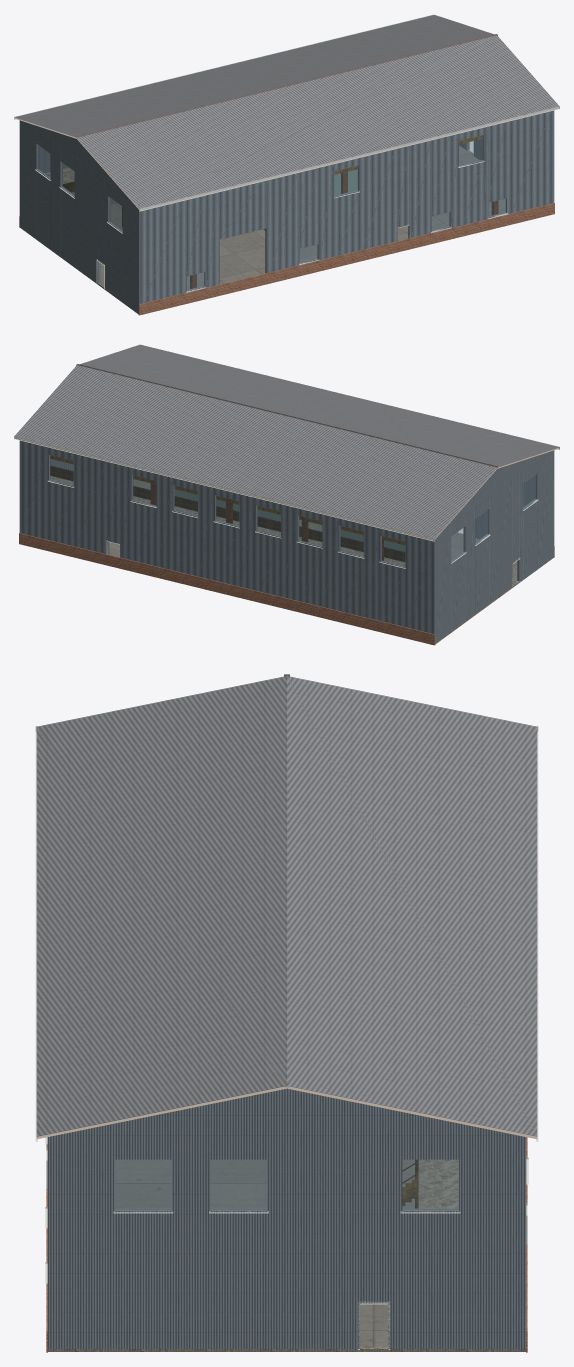
The model's file is ew-turbine-hall.works-v1.lod0.glb.
3 views of the same model, one above another, from view 1: azimuth 30°, elevation 25°; view 2: azimuth 150°, elevation 25°; view 3: azimuth 270°, elevation 25° (orthographic). The views are drawn at different scales.
Visible parts, largest first — view 1: ew-turbine-hall; view 2: ew-turbine-hall; view 3: ew-turbine-hall.
Part boxes in pixels (left/top/right/bottom): ew-turbine-hall: left=14, top=14, right=559, bottom=315; ew-turbine-hall: left=14, top=344, right=559, bottom=645; ew-turbine-hall: left=35, top=674, right=538, bottom=1352.
Bounding box in the file's own units: 44.6 × 13.69 × 23.08.
Materials: 7 (5 with a texture image).
